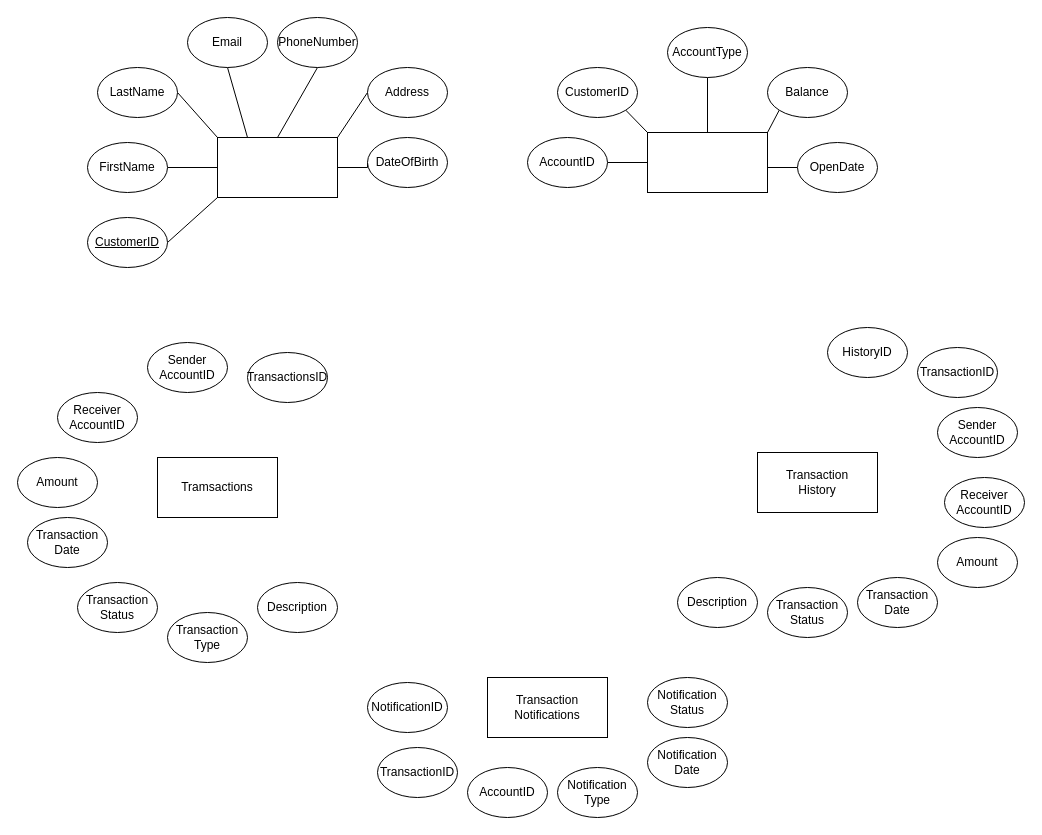
Image size: 1042x835. Some labels were removed from this diagram. The box of each missing label's shape, as (x1, y1, x2, y2) in pixels:
Accounts: (646, 132, 768, 192)
Customers: (216, 136, 338, 198)
